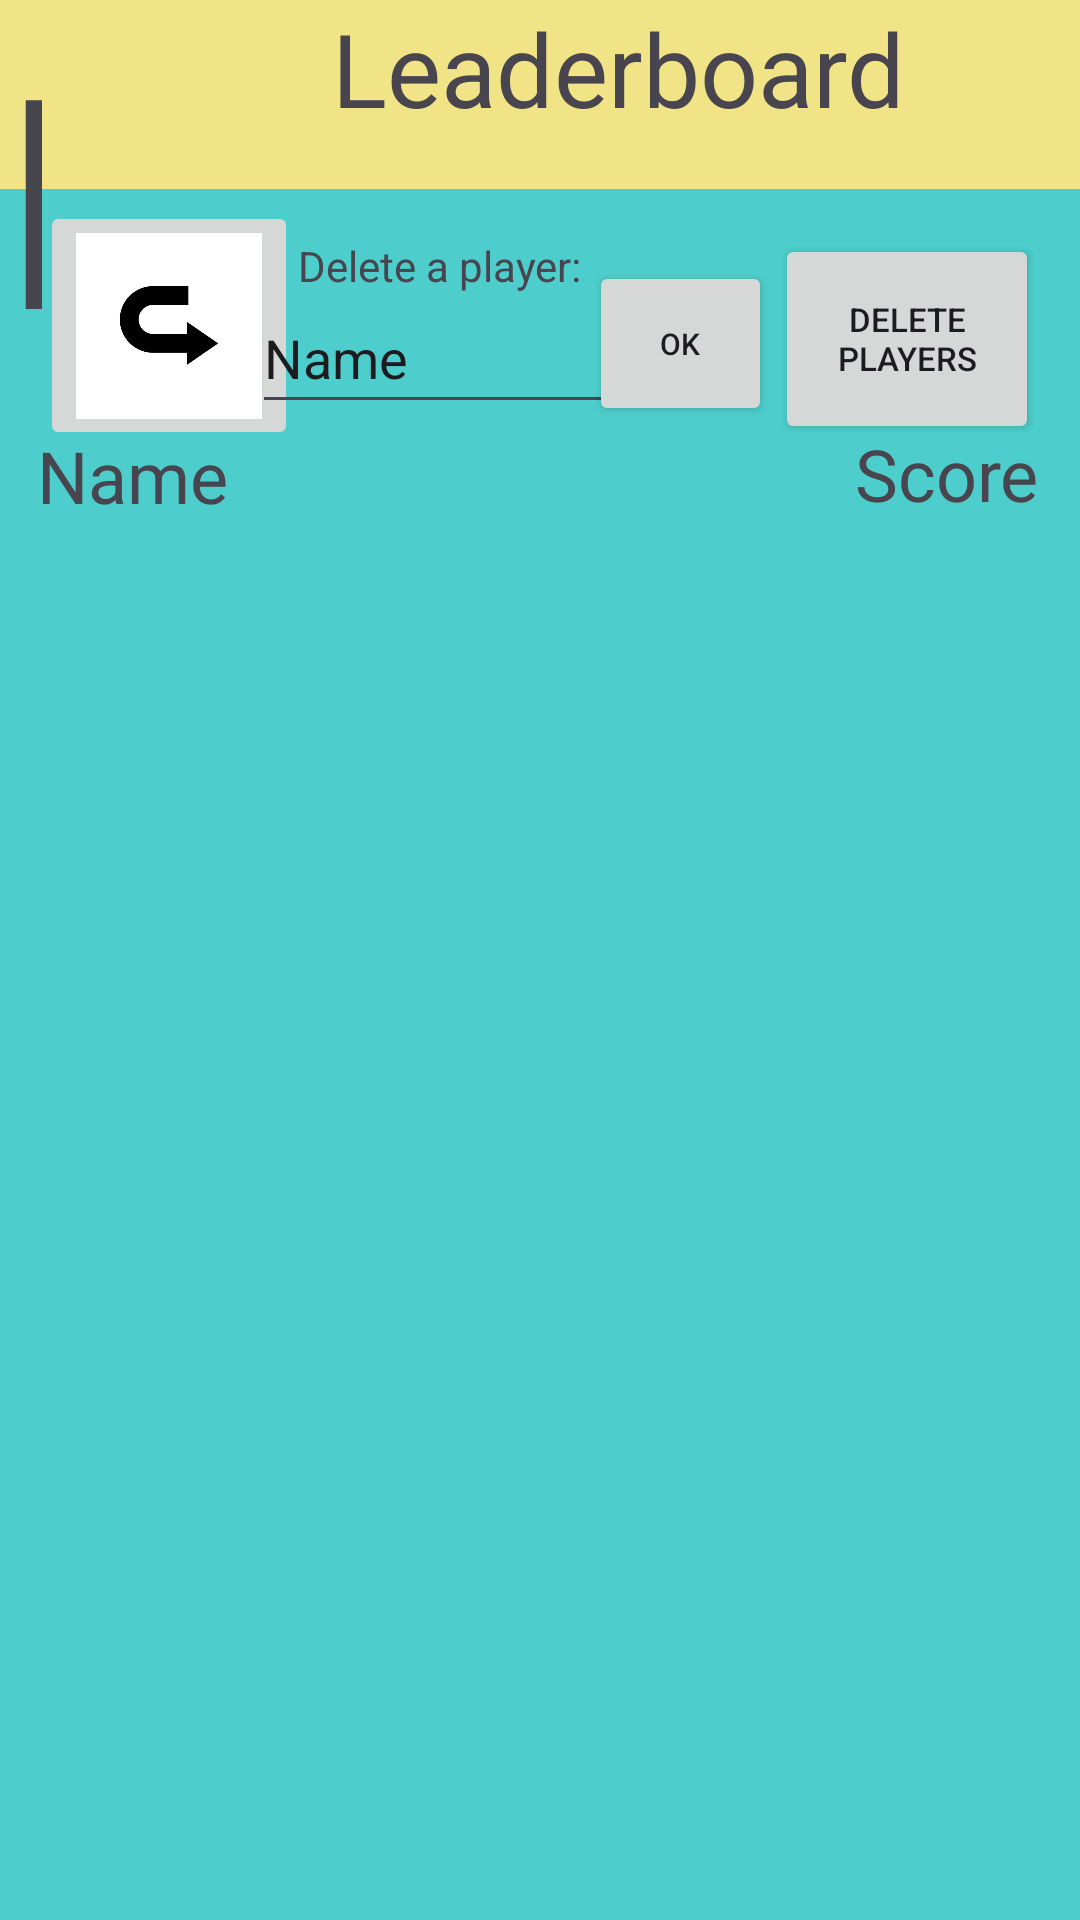

Icon click points for this 1080px x 1920px phone screenshot, format [x,y]:
arrow: [169,316]
